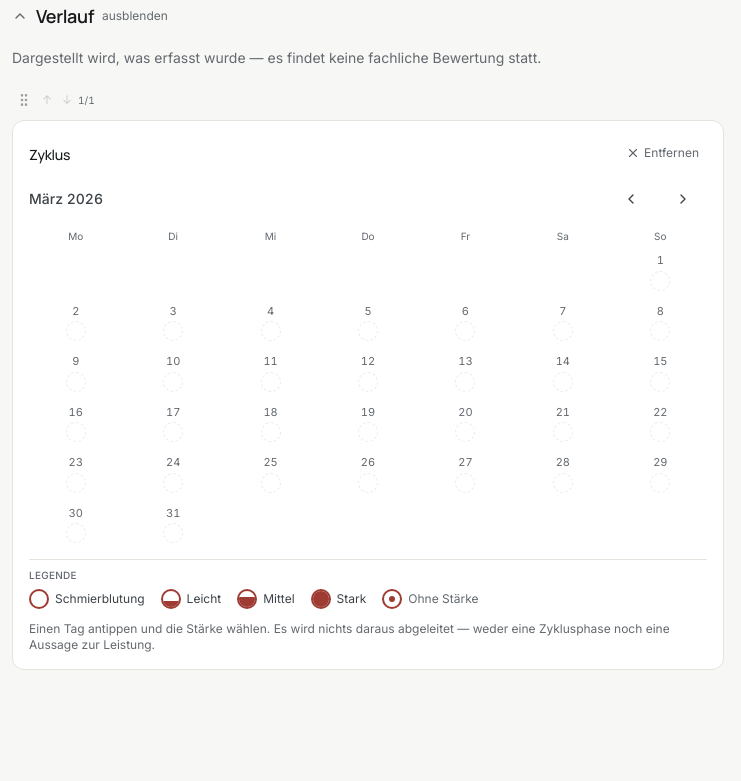
Test: the cycle card › offers the four strengths when a day is opened
The image size is (741, 781).
Click the button named "4. März 2026 — nichts dokumentiert".
click(270, 322)  # box [224, 298, 317, 345]
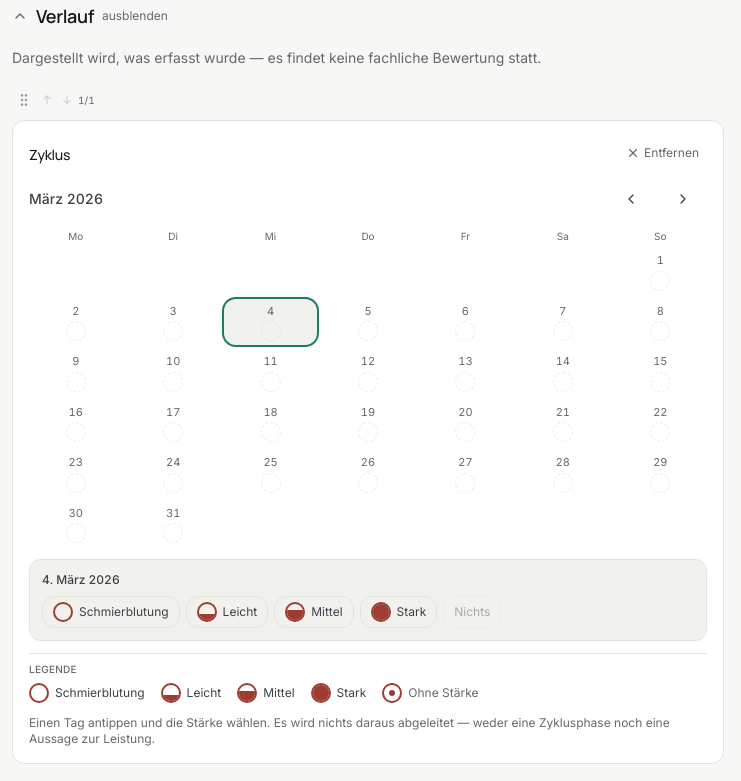
Now the element named "Stärke für 4. März 2026" is shown, box [29, 559, 707, 641]
